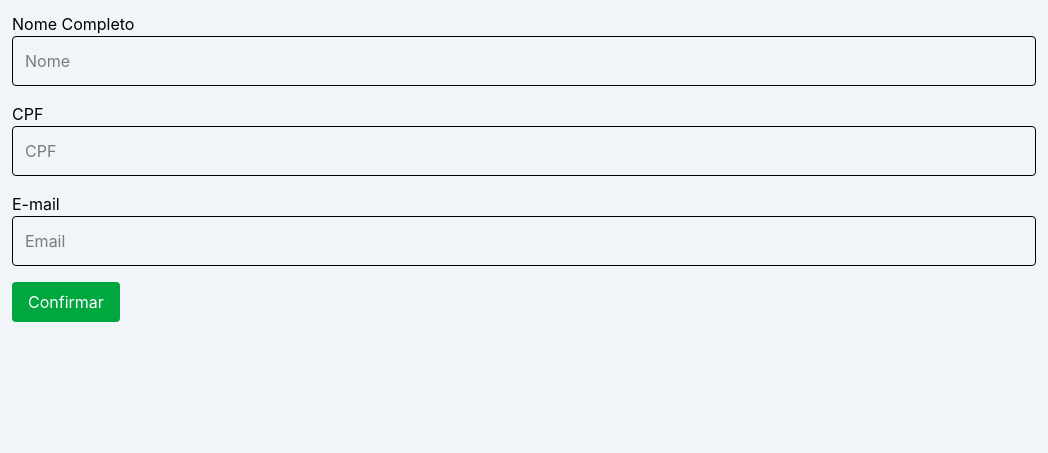
it: PassengerForm › deve validar cpf
Type "123" into the field with placeholder "CPF".
click(524, 151); type("123")  # box x1=12 y1=126 x2=1036 y2=176
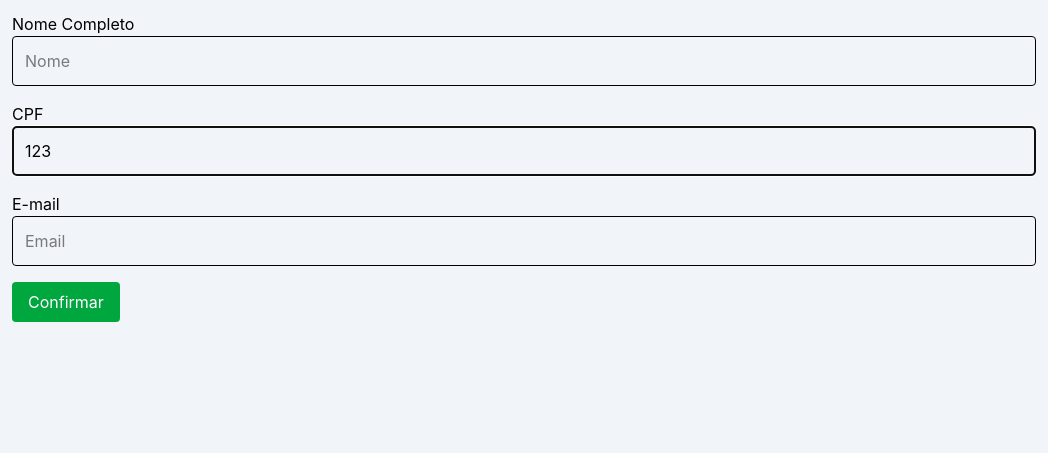
Click the button "Confirmar".
click(66, 302)  # box x1=12 y1=282 x2=120 y2=322
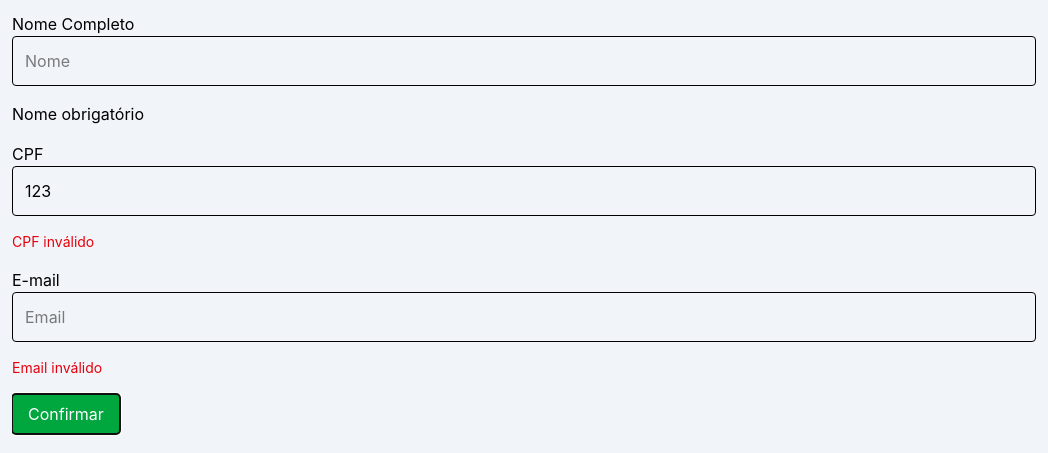
Check: the text "CPF inválido" is shown, box x1=12 y1=233 x2=94 y2=250
